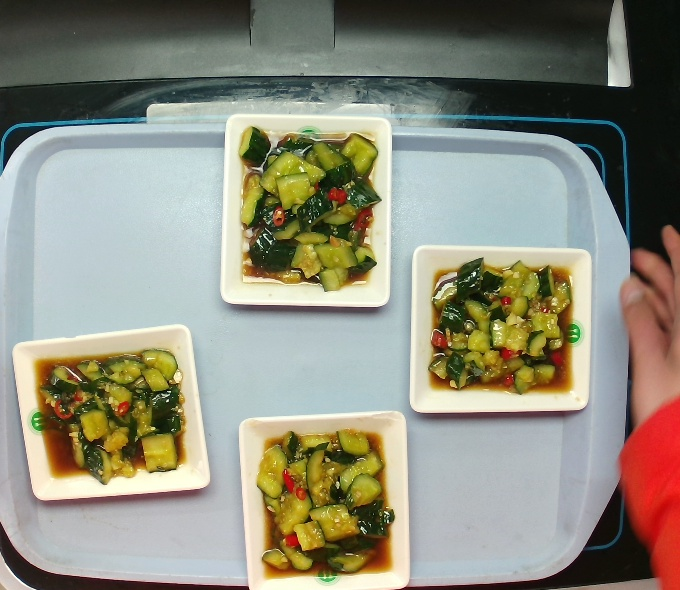wcq-LiangBanHuangGua: (32, 329, 193, 501), (420, 250, 578, 404), (238, 133, 376, 285), (254, 431, 395, 577)
